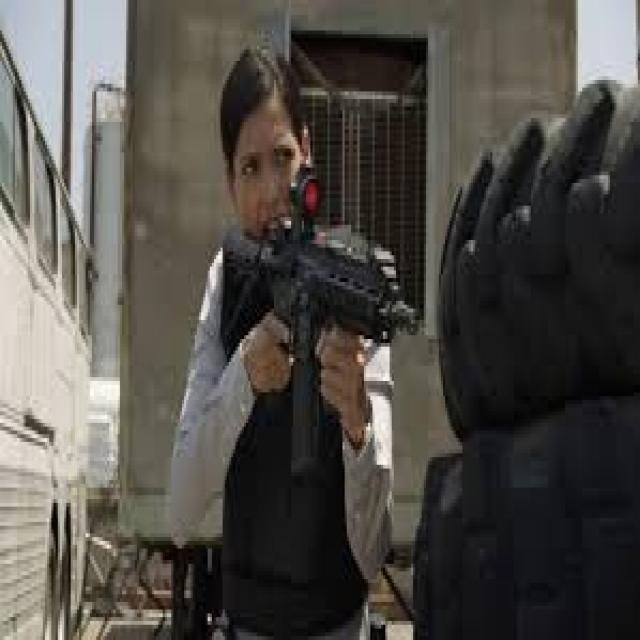weapon: (220, 156, 414, 492)
